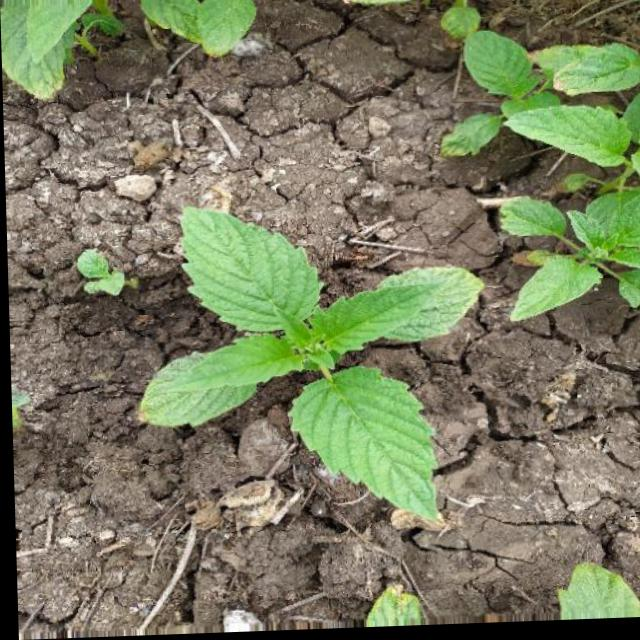crop: (117, 199, 484, 545), (431, 26, 640, 343)
